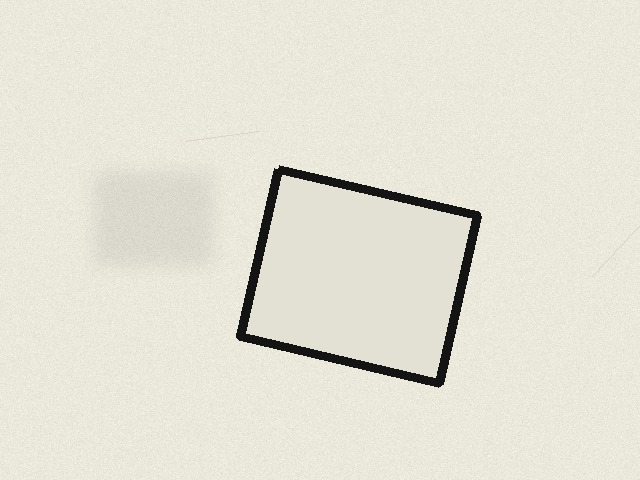parking_area: (240, 169, 477, 383)
